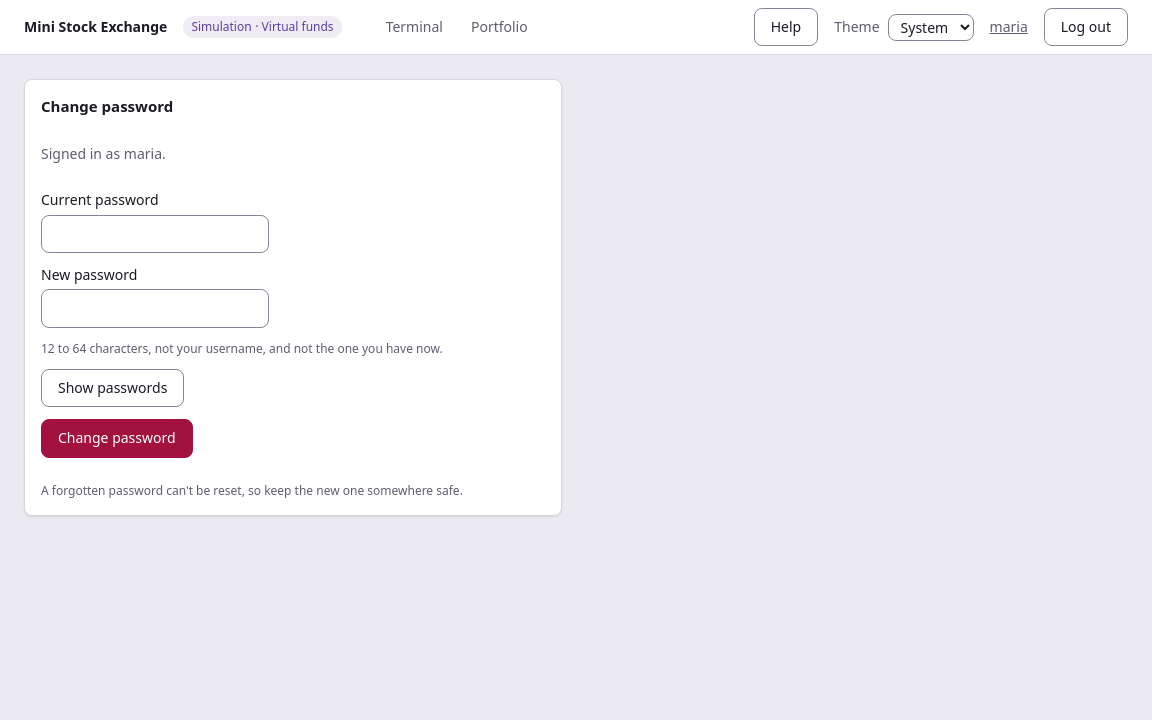
it: the account page › marks and focuses the field a refused change names, keeping what was typed
Type "a guess" into the password field labelled "Current password" at (155, 234), box 41,215 -> 269,253
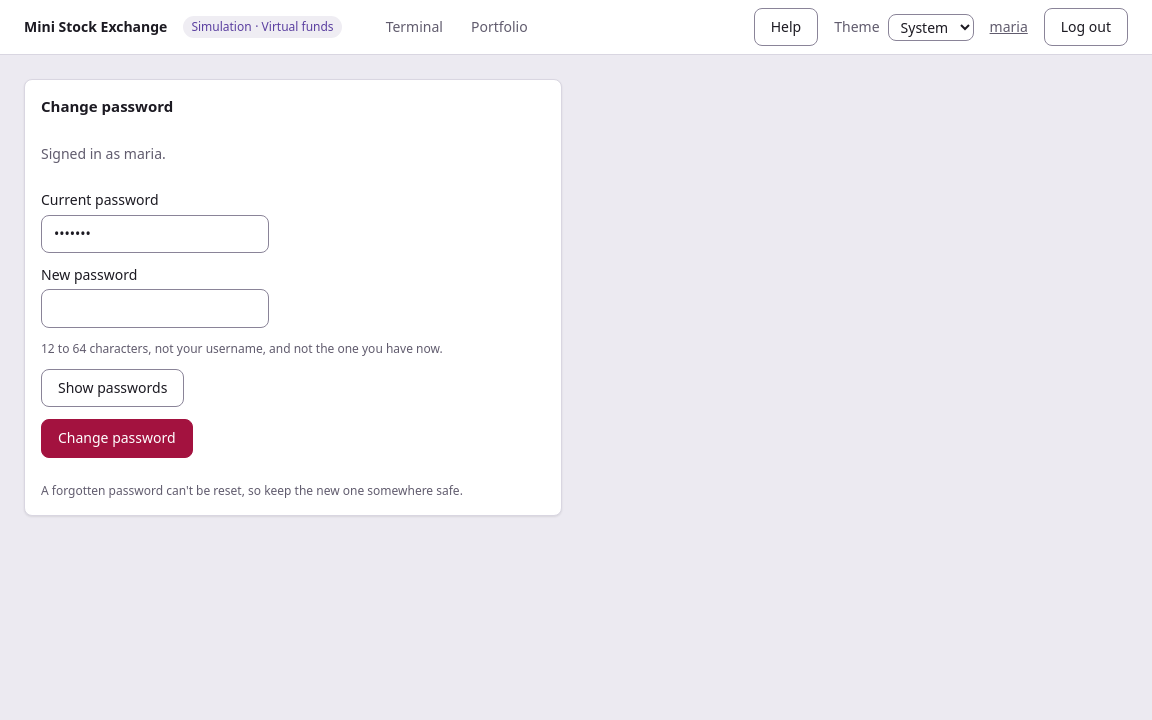
Type "a brand new password" into the password field labelled "New password" at (155, 308), box 41,289 -> 269,328
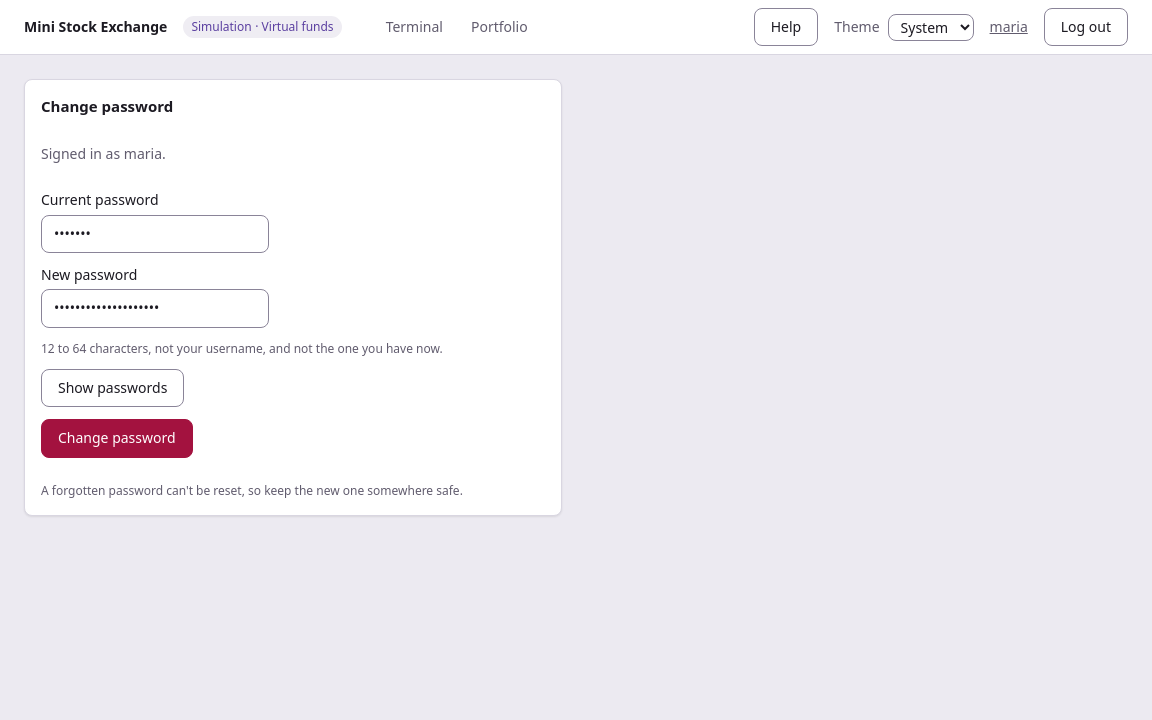
Click the button "Change password" at (117, 438), box 41,419 -> 193,458
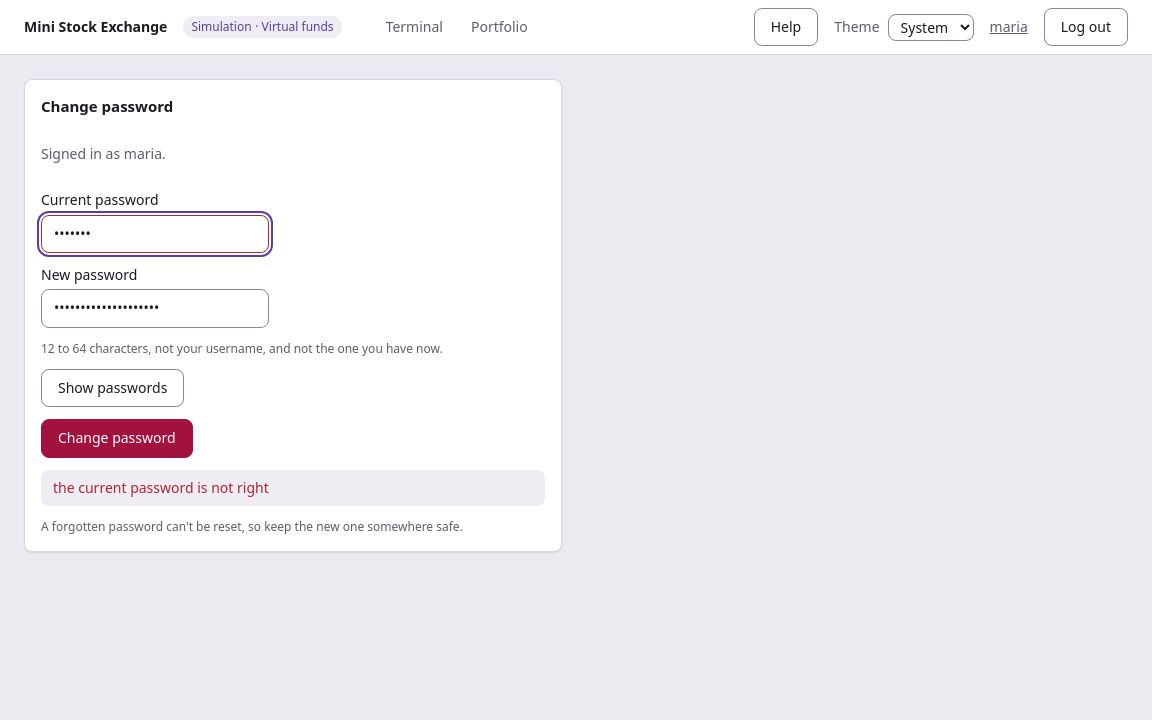
expect the text "the current password is not right" is shown: met, box 41,470 -> 545,506
